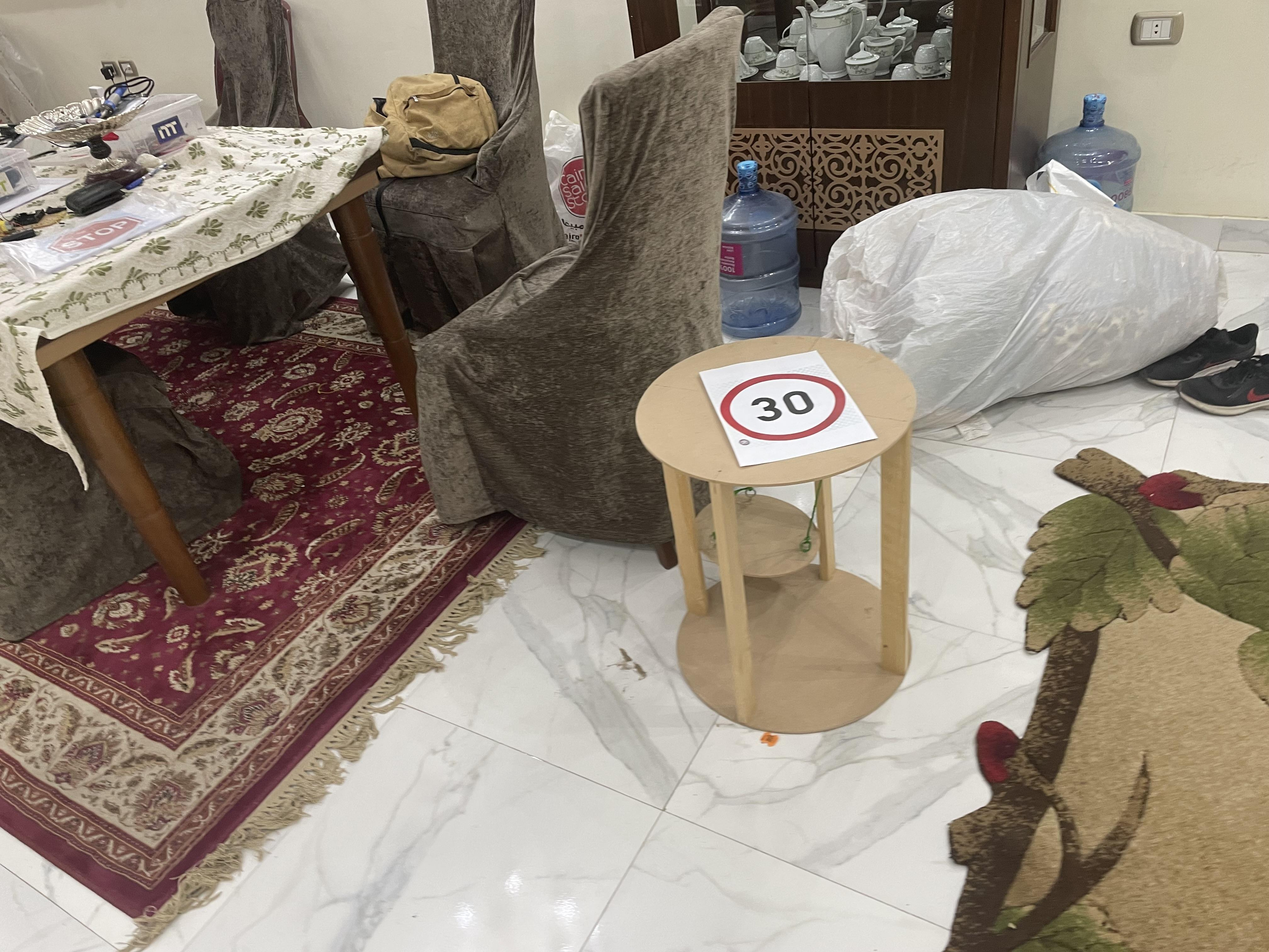30-speed: (719, 369, 849, 443)
